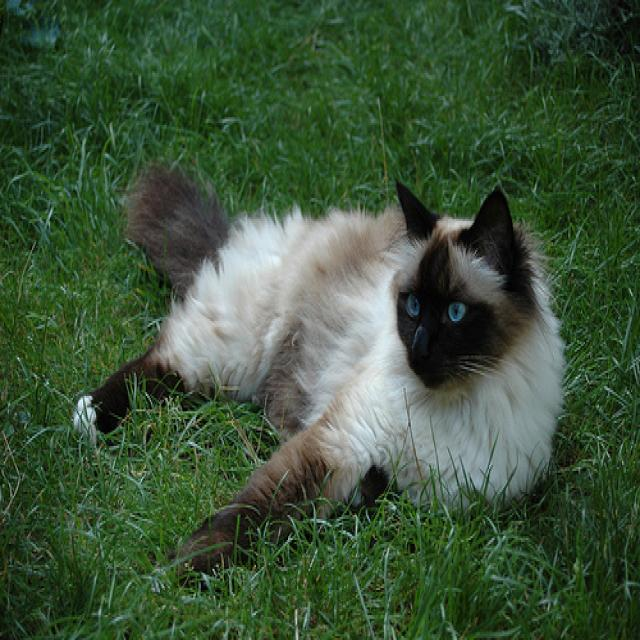cat: (393, 175, 518, 386)
